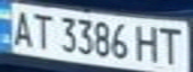3: (54, 14, 78, 54), (72, 16, 93, 56)
6: (109, 19, 133, 61)
8: (90, 18, 112, 58)
A: (6, 7, 36, 48)
H: (133, 21, 163, 63)
T: (154, 24, 187, 65), (27, 9, 57, 51)
